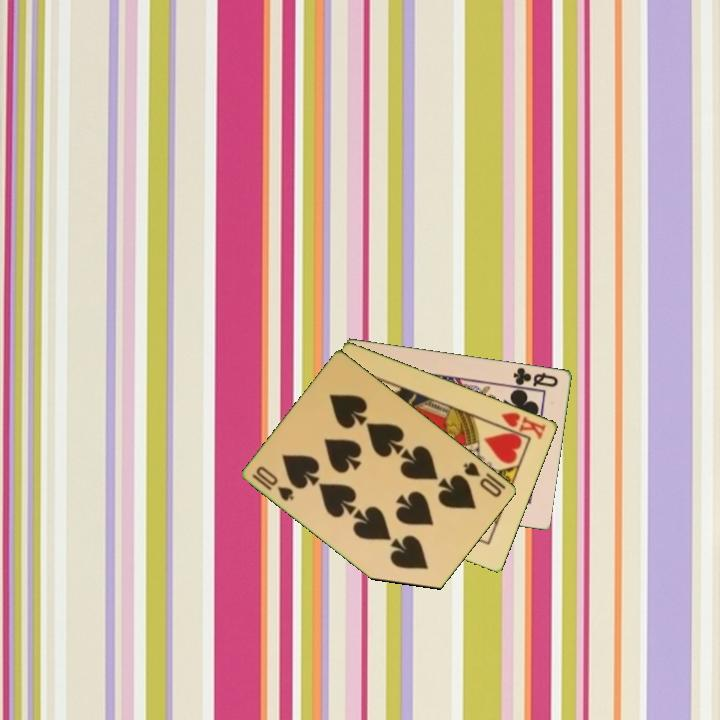10s: (248, 462, 297, 504), (460, 458, 505, 500)
Kh: (492, 408, 549, 443)
Qc: (508, 364, 561, 393)
